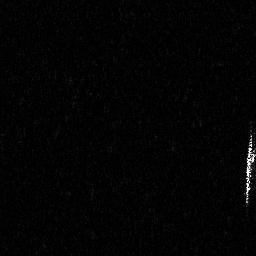ship: (244, 127, 256, 208)
